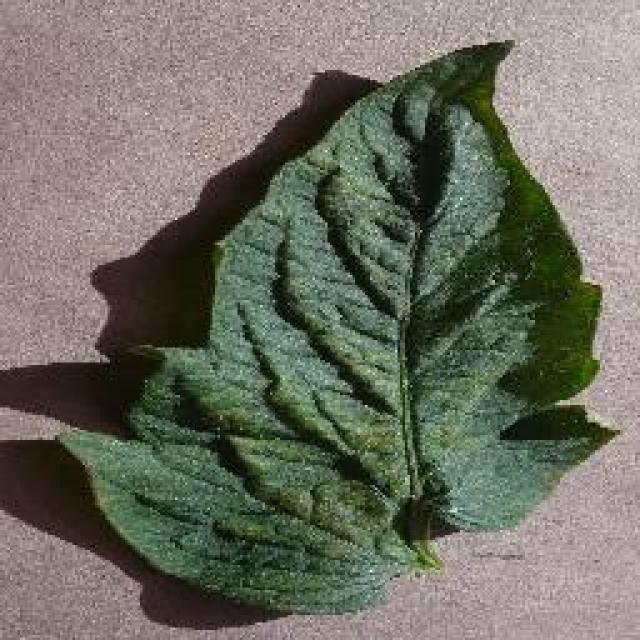Tomato___Spider_mites Two-spotted_spider_mite: (58, 42, 615, 610)
